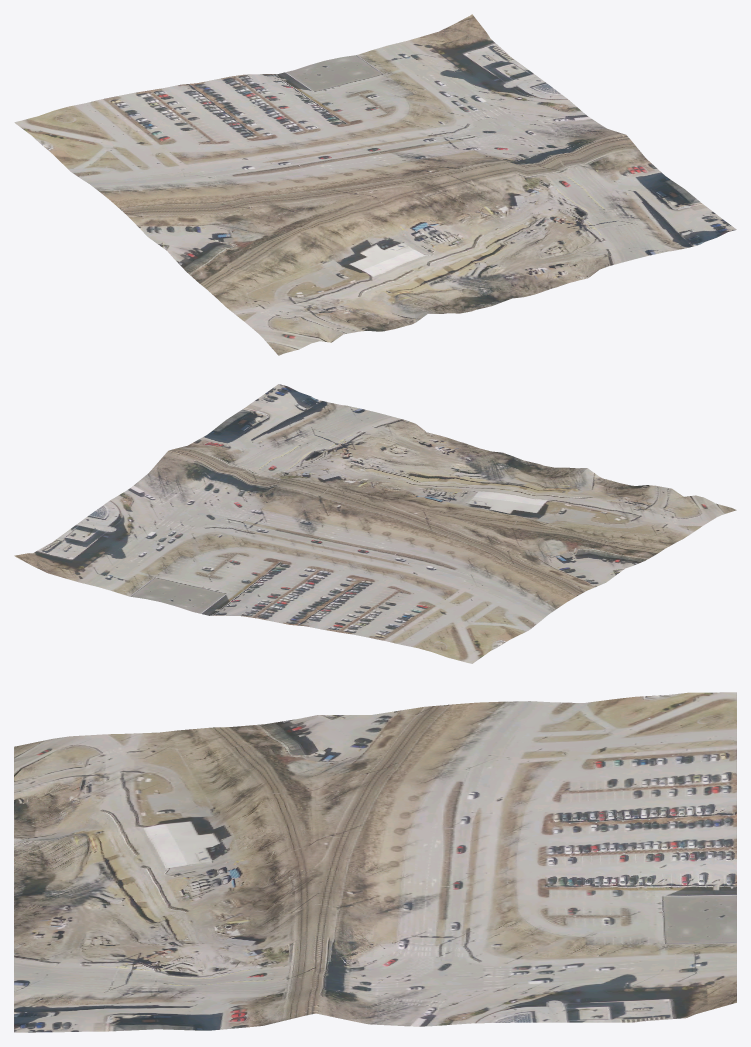
File: CM_Terrain_24488206_6820204.fbx
3 views of the same model, one above another, from view 1: azimuth 30°, elevation 25°; view 2: azimuth 150°, elevation 25°; view 3: azimuth 270°, elevation 25° (orthographic). The views are drawn at different scales.
Parts seen in each view (by area): view 1: CM_Terrain_24488206_6820204_LOD0; view 2: CM_Terrain_24488206_6820204_LOD0; view 3: CM_Terrain_24488206_6820204_LOD0.
Boxes of the visible parts, box(x1,y1,x2,y2) form: CM_Terrain_24488206_6820204_LOD0: box(14, 14, 736, 355); CM_Terrain_24488206_6820204_LOD0: box(14, 384, 736, 663); CM_Terrain_24488206_6820204_LOD0: box(14, 692, 736, 1032).
Size of what is drawn, in the model's own units: 205 by 19.21 by 205.
